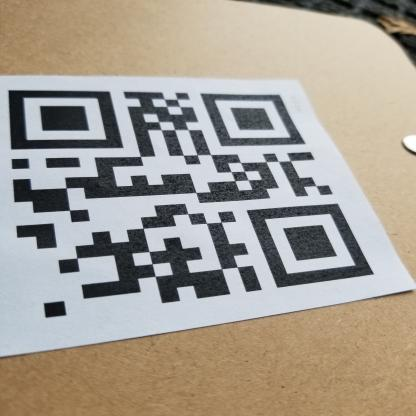qr: (6, 86, 380, 320)
